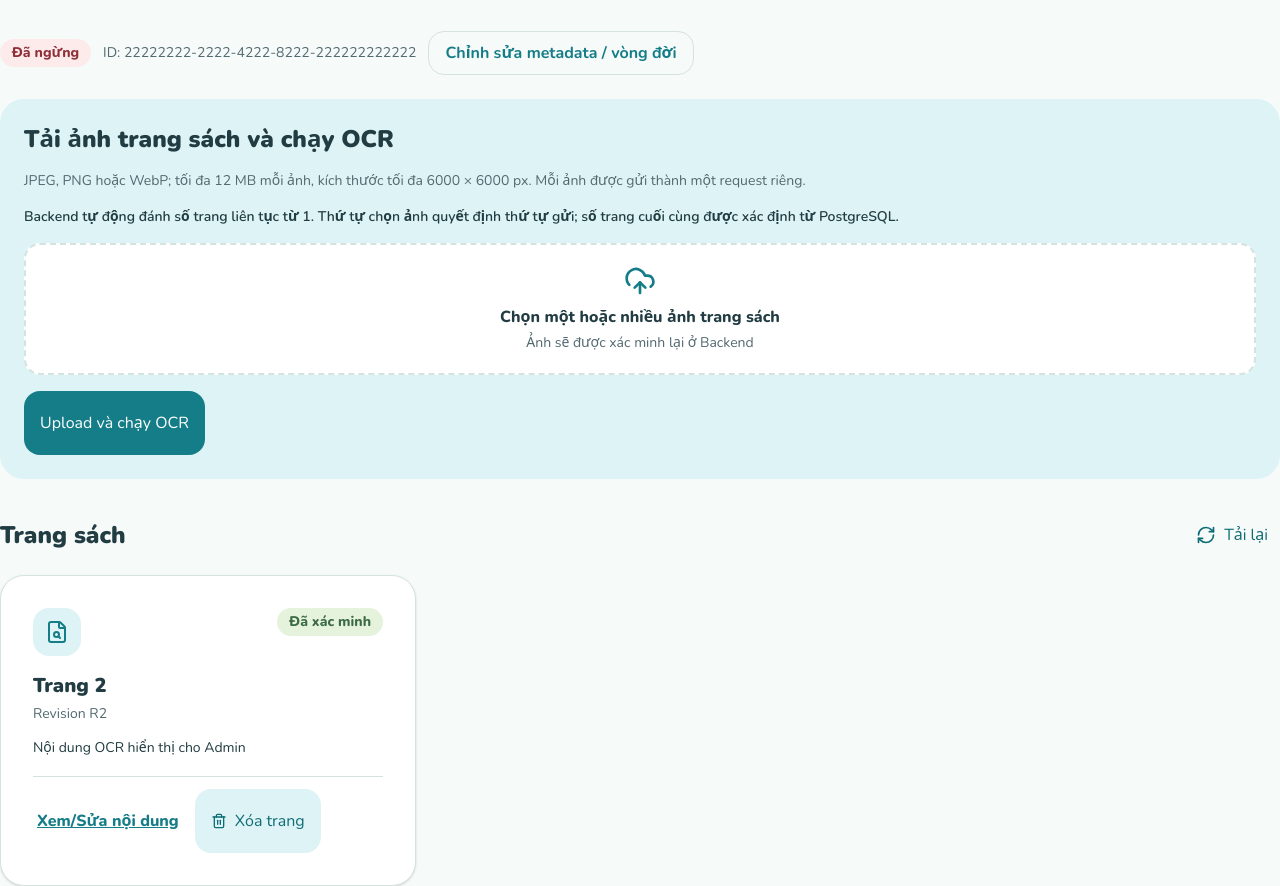
Test: Admin UI with real adapters and isolated HTTP responses › previews OCR text and only retires a page after confirmation
(page scrolled)
Expected: the text "Nội dung OCR hiển thị cho Admin" is shown, [33,738,246,757]
Click the button "Xóa trang" at (258, 821), box [195,789,321,853]
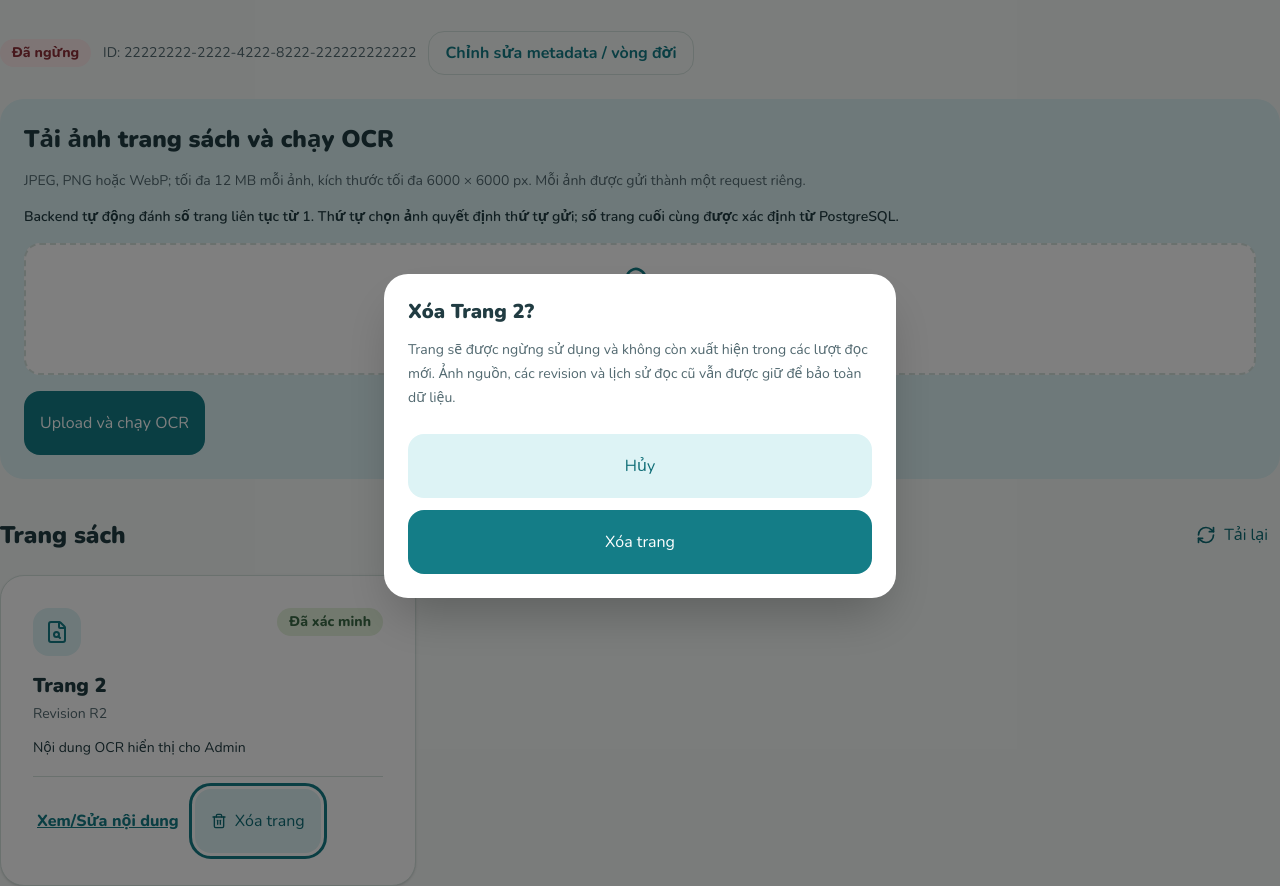
Expected: the dialog shows "Xóa Trang 2?", [384,274,896,598]
Click the button "Hủy" at (640, 466), box [408,434,872,498]
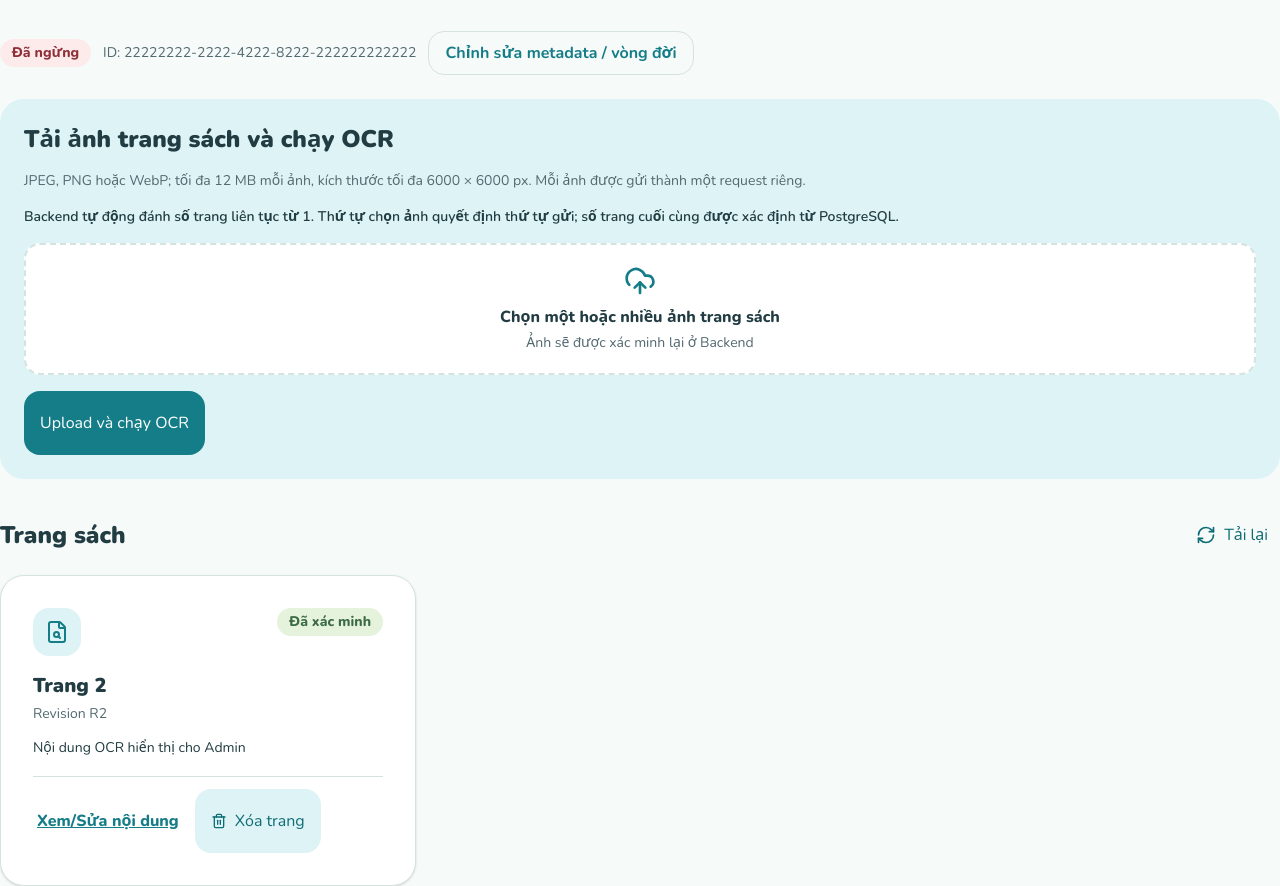
Click the button "Xóa trang" at (258, 821), box [195,789,321,853]
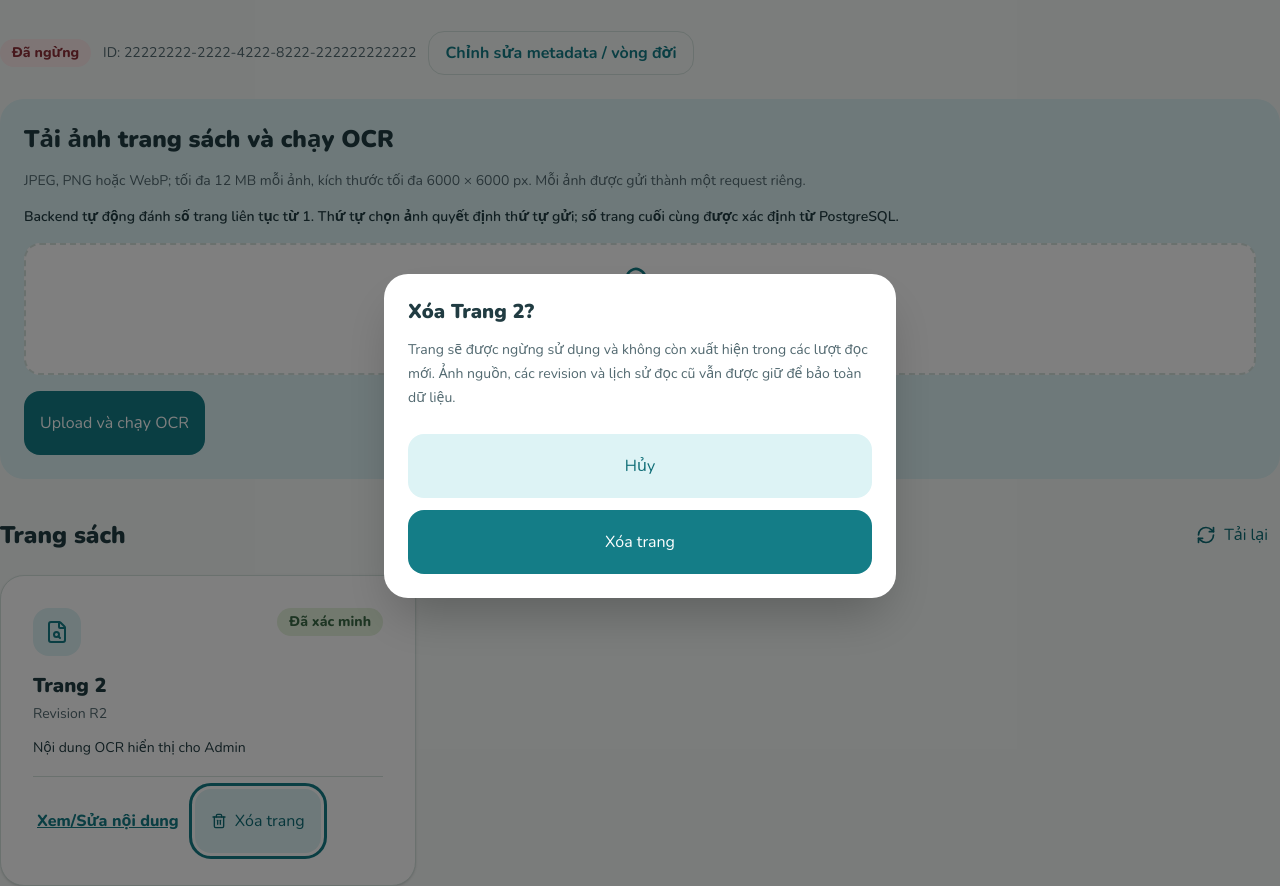
Click the button "Xóa trang" at (640, 542), box [408,510,872,574]
(page scrolled)
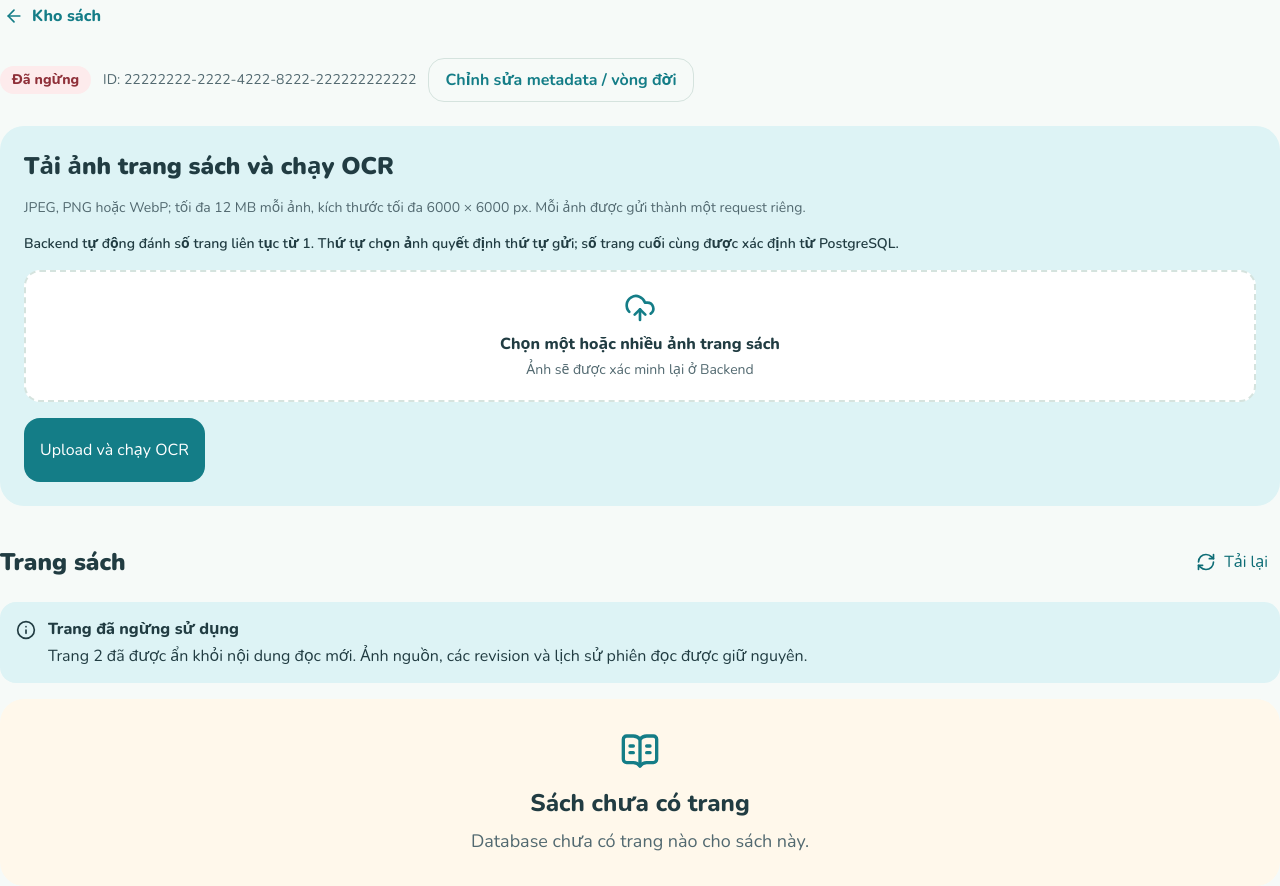
Expected: the text "Trang đã ngừng sử dụng" is shown, [48,618,239,640]
Expected: the heading "Sách chưa có trang" is shown, [530,787,750,819]
Expected: the button "Xóa trang" is gone
